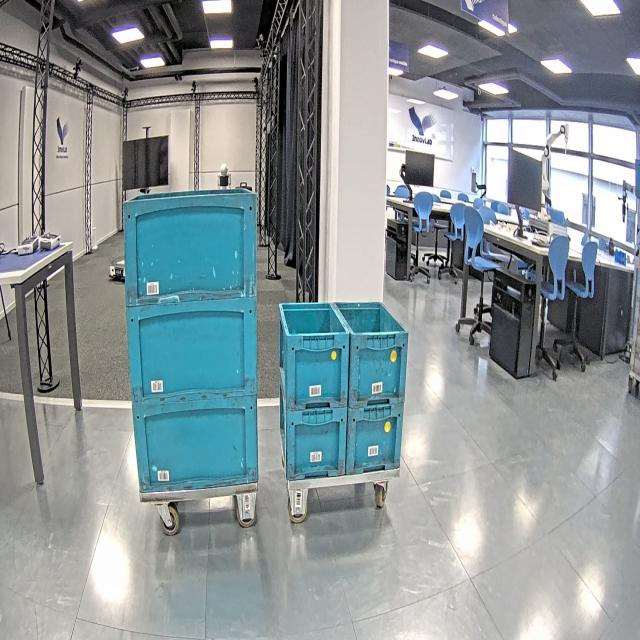BoxB4: (122, 187, 258, 307), (126, 295, 259, 406), (132, 393, 259, 496)
BoxB8: (333, 300, 410, 409), (277, 300, 349, 412), (278, 383, 350, 488), (345, 409, 406, 477)
